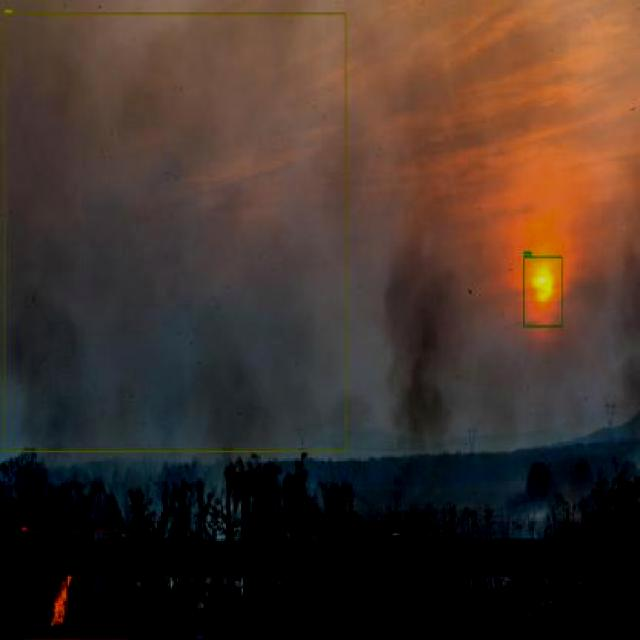fire: (20, 530, 132, 639)
smoke: (4, 12, 347, 452)
